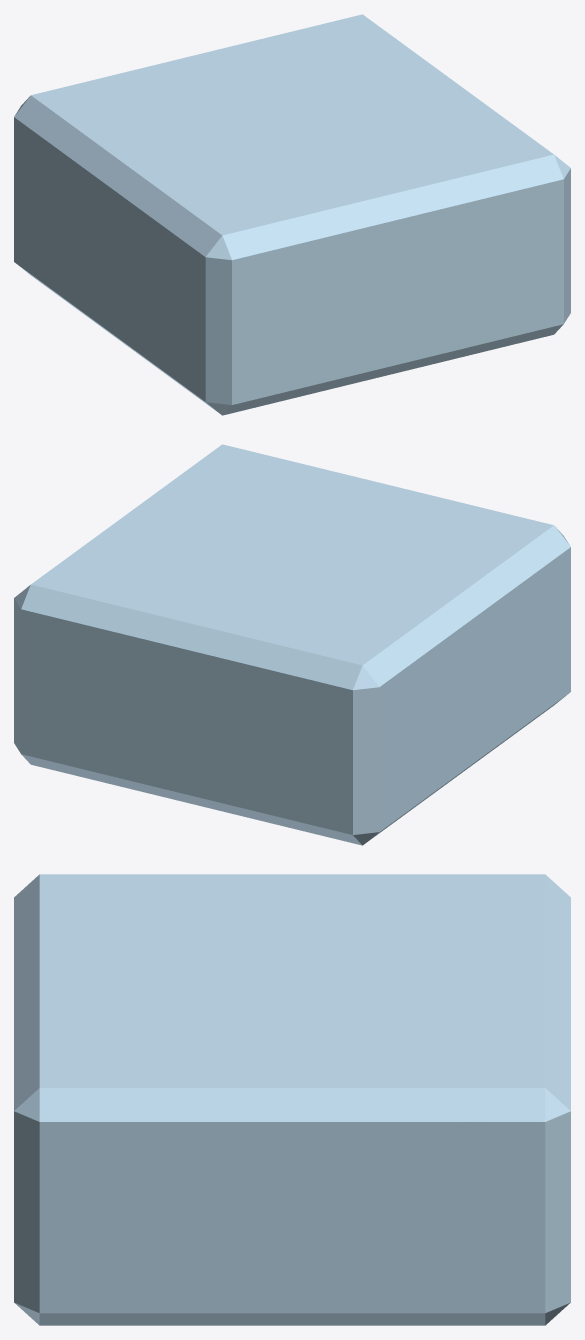
File: R4B_HalfBlock_LOD1.fbx
The picture shows the model from 3 angles, top to bottom: view 1: azimuth 30°, elevation 25°; view 2: azimuth 150°, elevation 25°; view 3: azimuth 270°, elevation 25°; orthographic projection. The views are drawn at different scales.
Parts seen in each view (by area): view 1: R4B_HalfBlock_LOD1; view 2: R4B_HalfBlock_LOD1; view 3: R4B_HalfBlock_LOD1.
Part boxes in pixels (bbox=[...]): R4B_HalfBlock_LOD1: bbox=[14, 14, 570, 415]; R4B_HalfBlock_LOD1: bbox=[14, 444, 570, 845]; R4B_HalfBlock_LOD1: bbox=[14, 874, 570, 1325].
Bounding box in the file's own units: 0.52 × 0.245 × 0.52.
